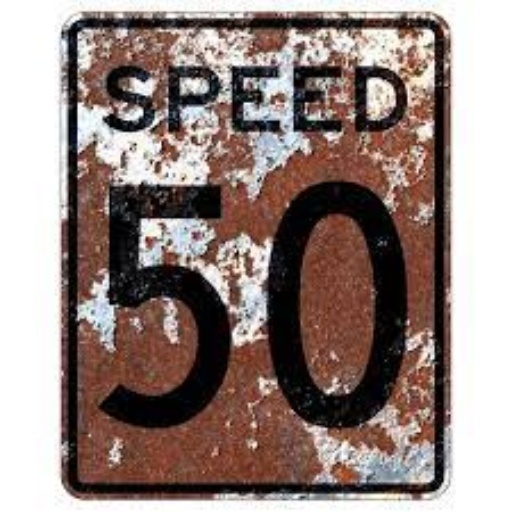Speed limit: (60, 7, 460, 490)
